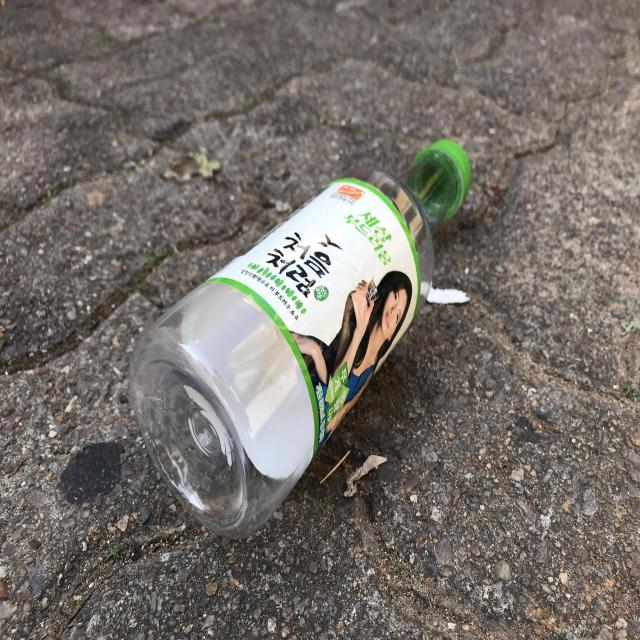plastic: (130, 139, 471, 538)
